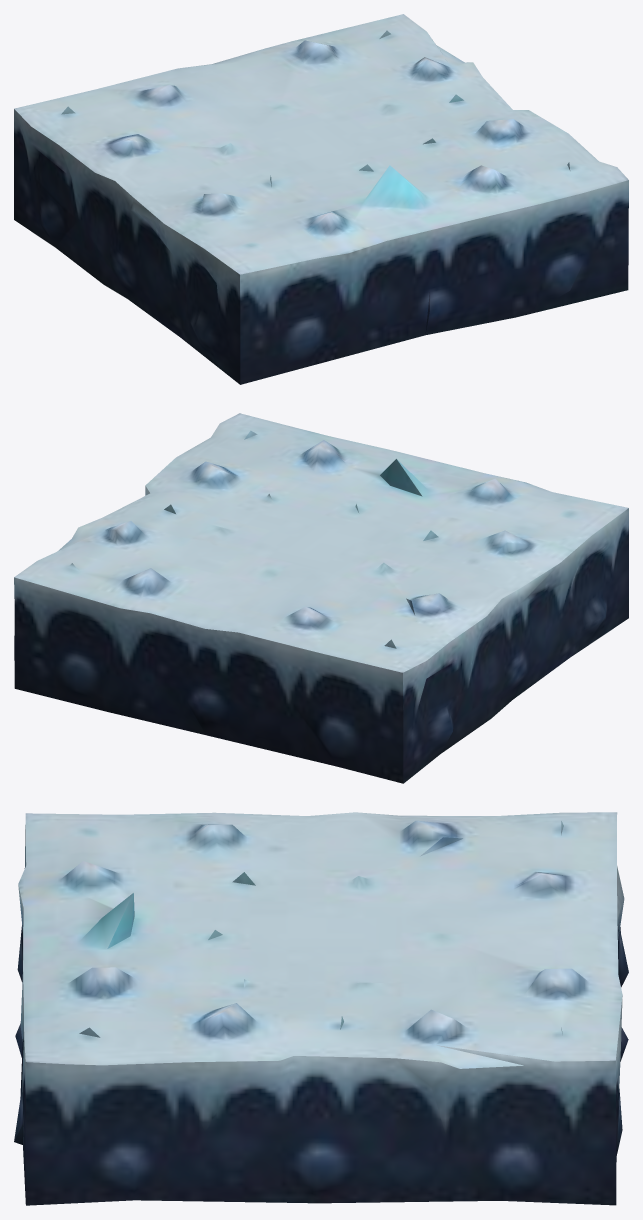
The model's file is b_givre_sol_1.glb.
The picture shows the model from 3 angles, top to bottom: view 1: azimuth 30°, elevation 25°; view 2: azimuth 150°, elevation 25°; view 3: azimuth 270°, elevation 25°; orthographic projection. The views are drawn at different scales.
Visible parts, largest first — view 1: geometry_0; view 2: geometry_0; view 3: geometry_0.
Boxes of the visible parts, x1,y1,x2,y2 form: geometry_0: (14,14,628,384); geometry_0: (14,413,628,783); geometry_0: (14,812,628,1205).
Bounding box in the file's own units: 1 × 0.3374 × 1.
Materials: 1 (1 with a texture image).
